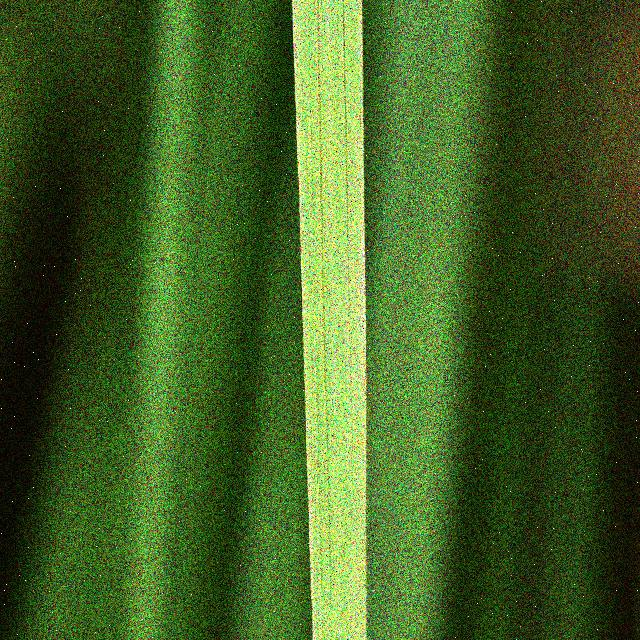BLS: (360, 0, 367, 519), (317, 0, 323, 218), (343, 0, 348, 219), (336, 633, 338, 640)
